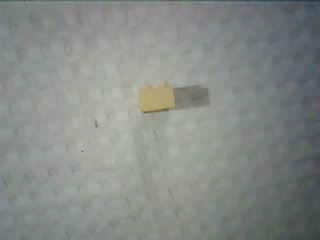lego: (135, 81, 175, 114)
